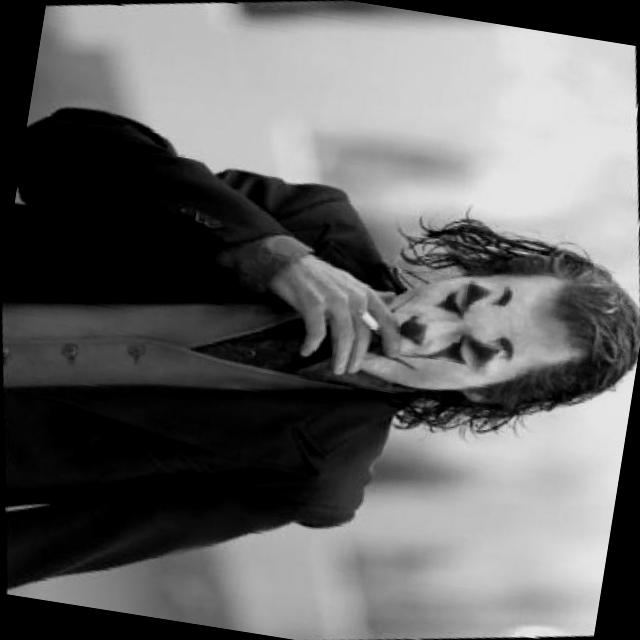smoke: (266, 256, 418, 388)
